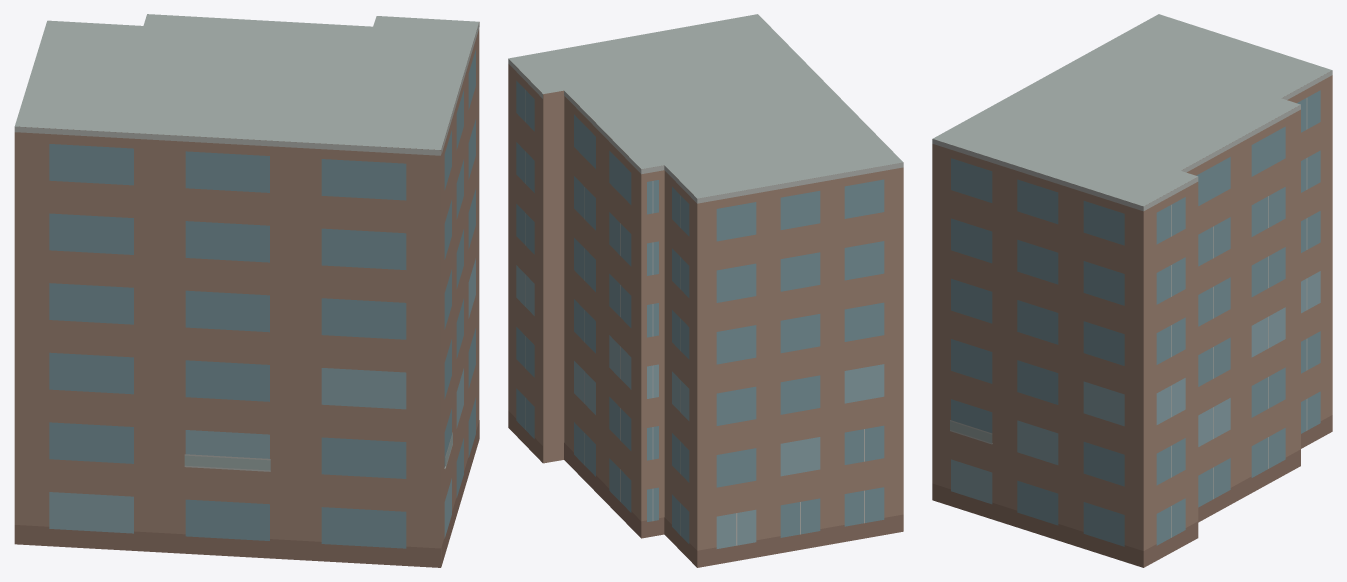
File: survey-upis-32670096.glb
3 views of the same model, side by side, from view 1: azimuth 30°, elevation 25°; view 2: azimuth 150°, elevation 25°; view 3: azimuth 270°, elevation 25° (orthographic). The views are drawn at different scales.
Visible parts, largest first — view 1: survey-upis-32670096.tmp; view 2: survey-upis-32670096.tmp; view 3: survey-upis-32670096.tmp.
Boxes of the visible parts, box(x1,y1,x2,y2) form: survey-upis-32670096.tmp: box(14, 14, 479, 567); survey-upis-32670096.tmp: box(508, 14, 903, 567); survey-upis-32670096.tmp: box(932, 14, 1332, 567).
Bounding box in the file's own units: 20.57 × 18 × 18.07.
